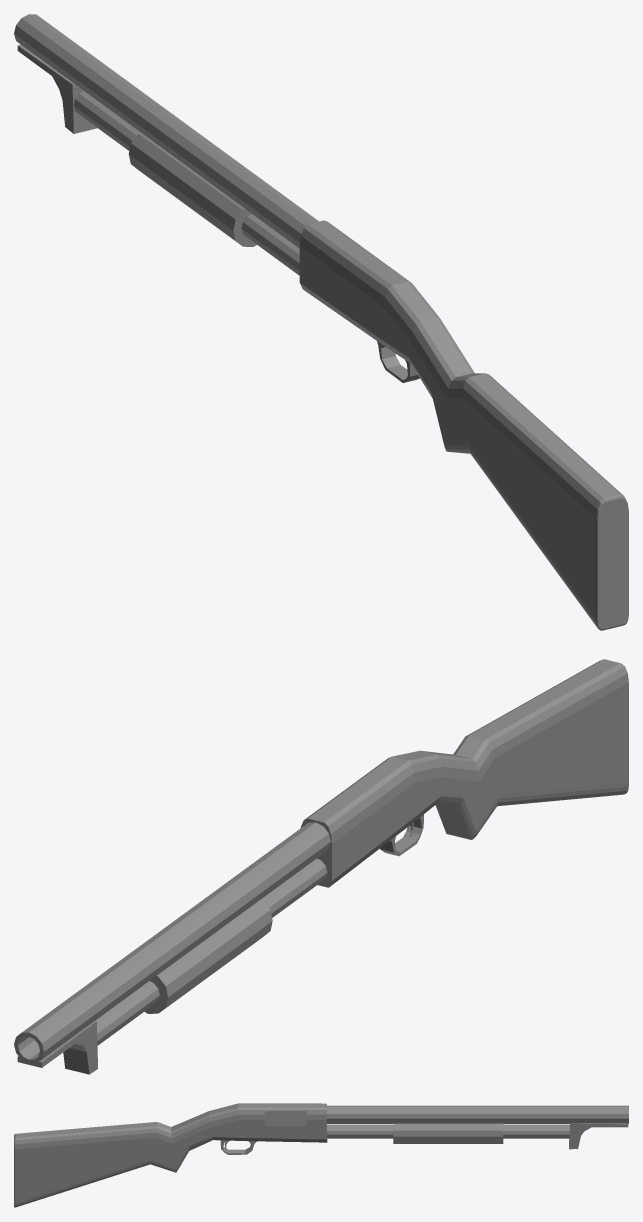
The model's file is Shotgun.fbx.
3 renders of one model, top to bottom at view 1: azimuth 30°, elevation 25°; view 2: azimuth 150°, elevation 25°; view 3: azimuth 270°, elevation 25°, orthographic. The views are drawn at different scales.
Parts seen in each view (by area): view 1: Shotbun Base, Pump; view 2: Shotbun Base, Pump; view 3: Shotbun Base, Pump.
Part boxes in pixels (left/top/right/bottom): Shotbun Base: left=14, top=14, right=628, bottom=630; Pump: left=128, top=132, right=256, bottom=246; Shotbun Base: left=14, top=659, right=628, bottom=1074; Pump: left=144, top=899, right=272, bottom=1013; Shotbun Base: left=14, top=1103, right=628, bottom=1207; Pump: left=264, top=1112, right=503, bottom=1143.
Size of the model in its own units: 37.18 by 170 by 958.
3 materials, 3 textured.
